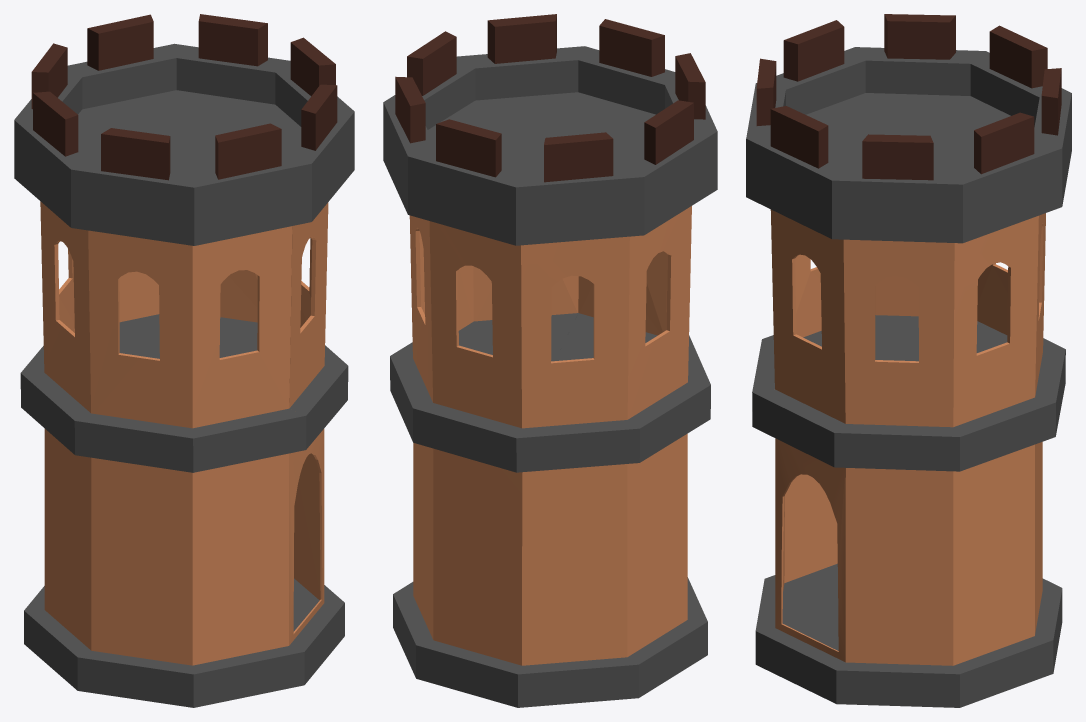
Rendered from MediumTower.fbx.
3 renders of one model, left to right at view 1: azimuth 30°, elevation 25°; view 2: azimuth 150°, elevation 25°; view 3: azimuth 270°, elevation 25°, orthographic.
Parts seen in each view (by area): view 1: Circle.011; view 2: Circle.011; view 3: Circle.011.
Part boxes in pixels (x1,y1,x2,y2): Circle.011: (14,14,354,707); Circle.011: (383,14,717,707); Circle.011: (746,14,1071,707).
Size of the model in its own units: 583 by 1116 by 584.
